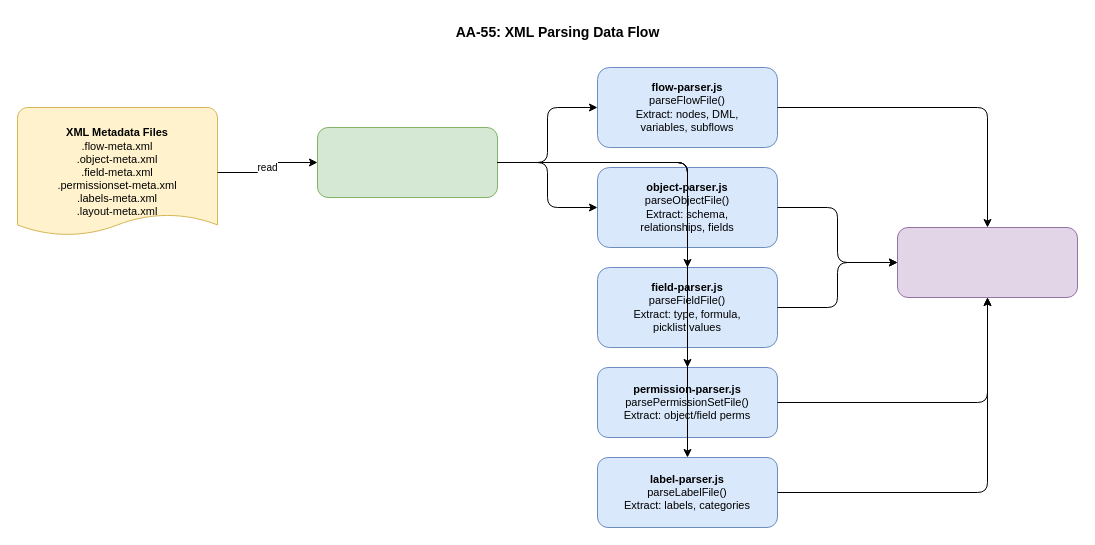
This 1095x545 diagram has some shape labels left out. The centre of each missing label's shape, as x and y in pixels:
"fast-xml-parser XML to JS Object (preserveOrder: true)" belongs at [407,162].
"Parsed JSON Output Structured data Ready for indexing" belongs at [987,262].
